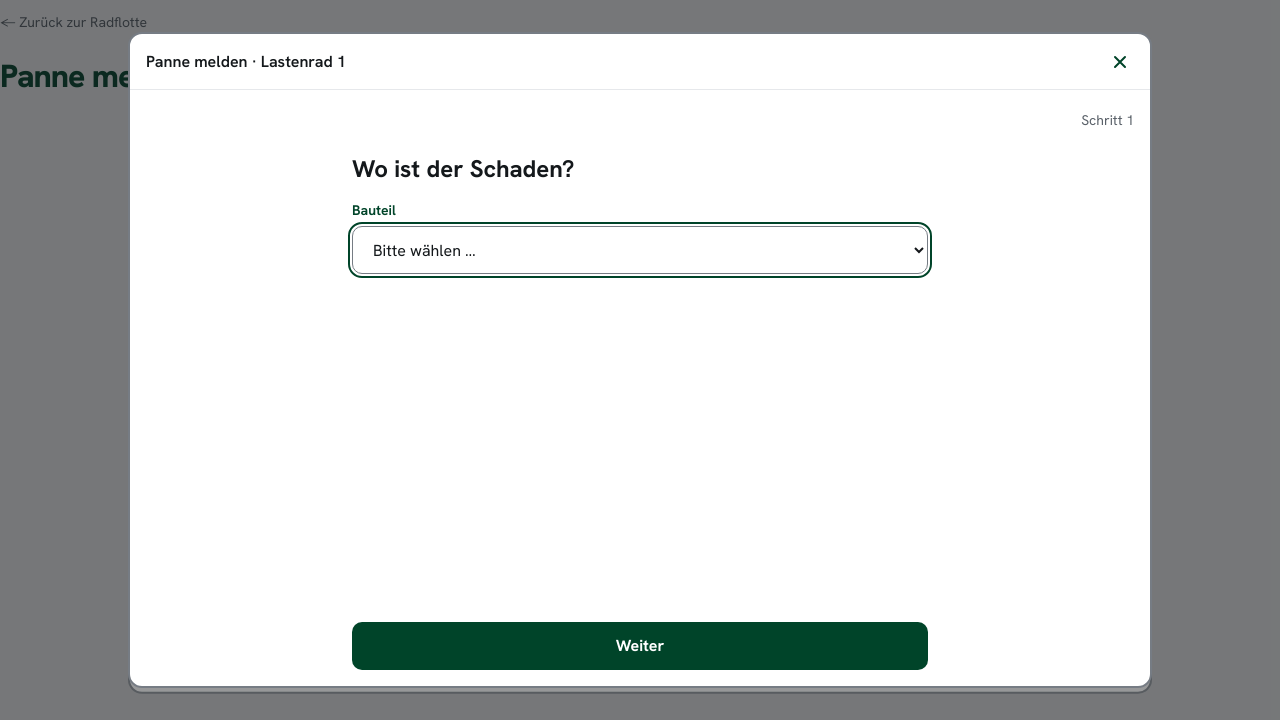
Panne melden › bietet „Weiter“ erst, wenn keine Stelle mehr offen ist; jede Stelle ist ein Schaden
Select "Bremse vorne" in the 2nd dropdown labelled "Bauteil": (640, 250) [352, 226, 928, 274]
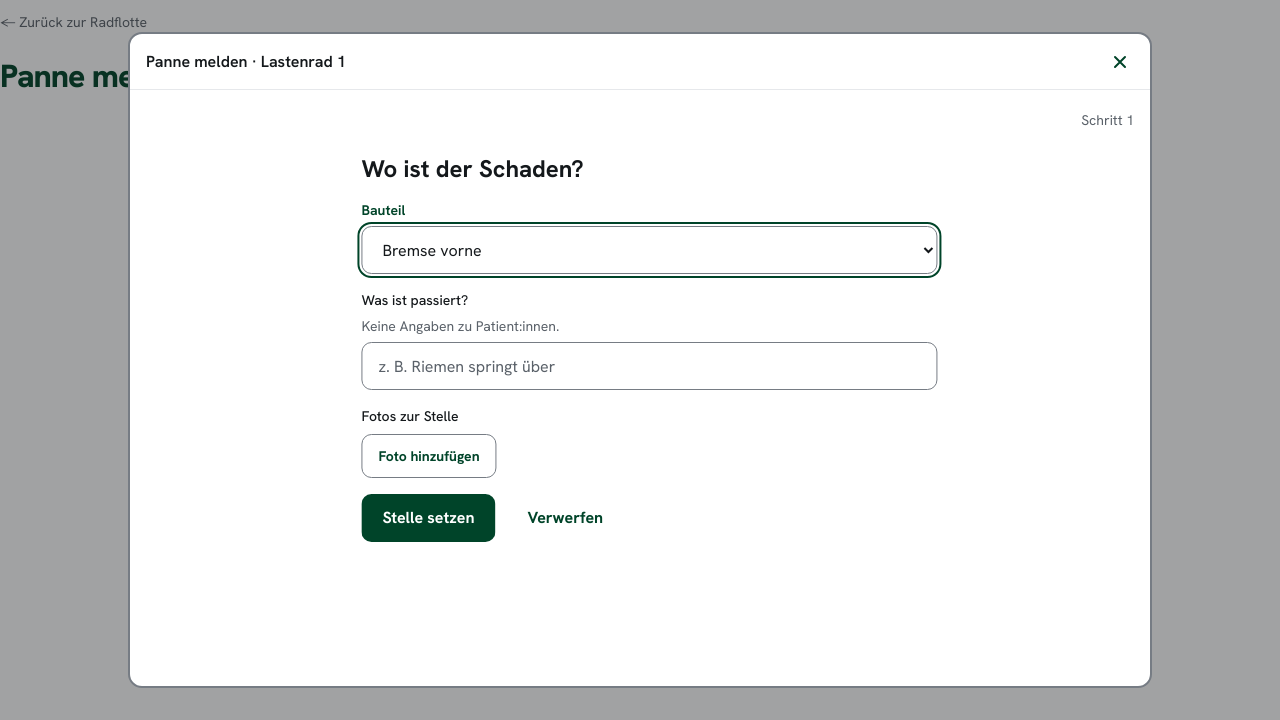
Check: the button "Weiter" is not shown
Check: the dropdown labelled "Bauteil" shows "Bremse vorne", box [356, 226, 932, 274]
In the field labelled "Was ist passiert?": (644, 366) [356, 342, 932, 390], type "schleift"
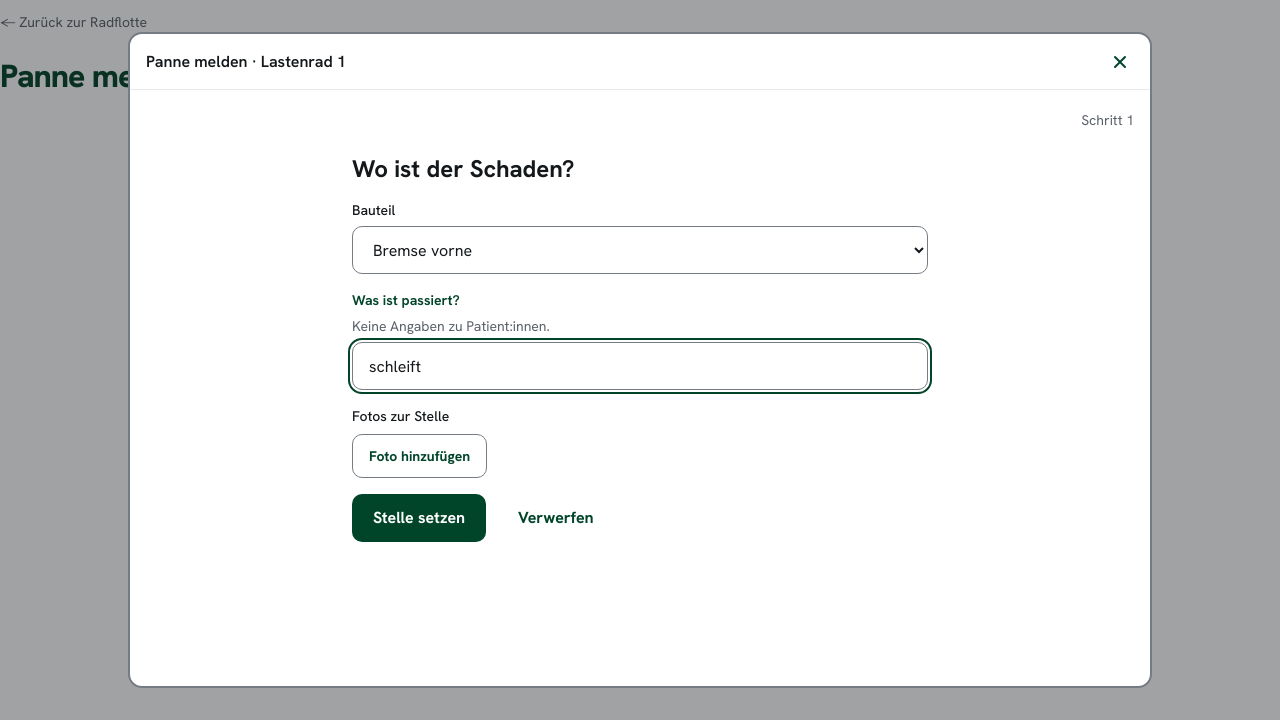
Click the button "Stelle setzen": (419, 518) [352, 494, 486, 542]
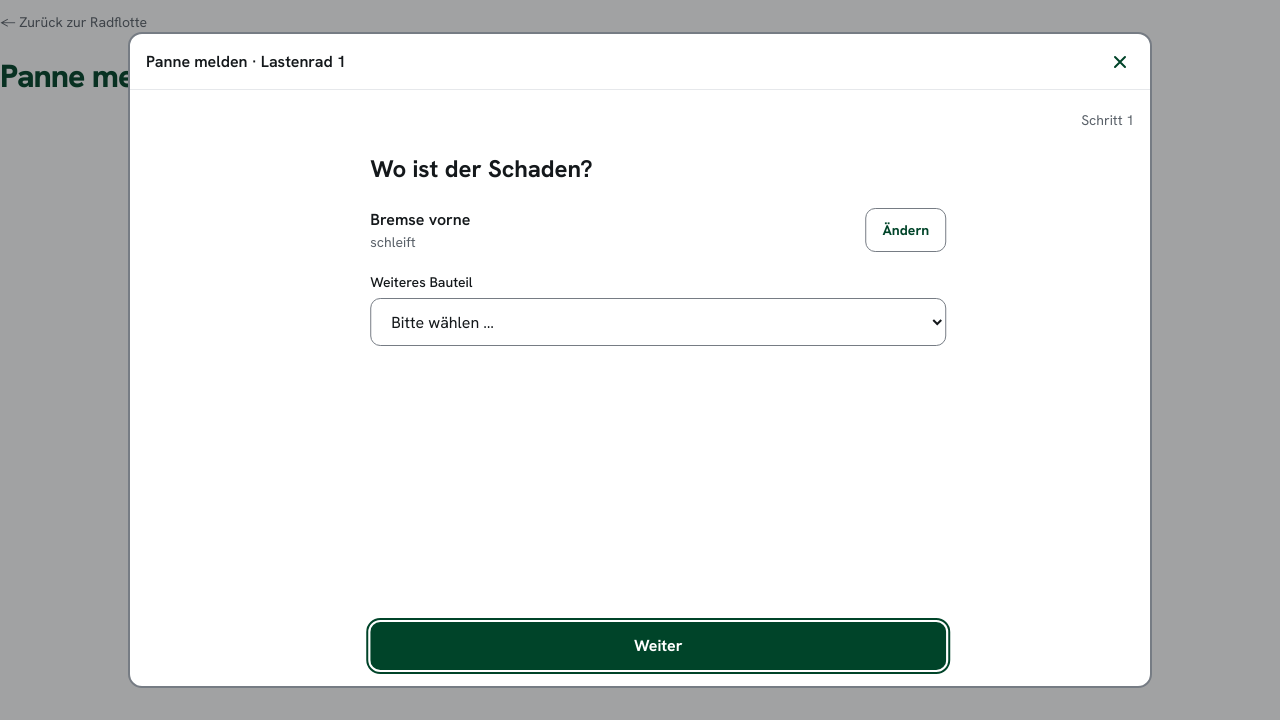
Check: the button "Weiter" is enabled, box [361, 622, 937, 670]
Check: the dropdown labelled "Weiteres Bauteil" shows "Bitte wählen …", box [361, 298, 937, 346]
